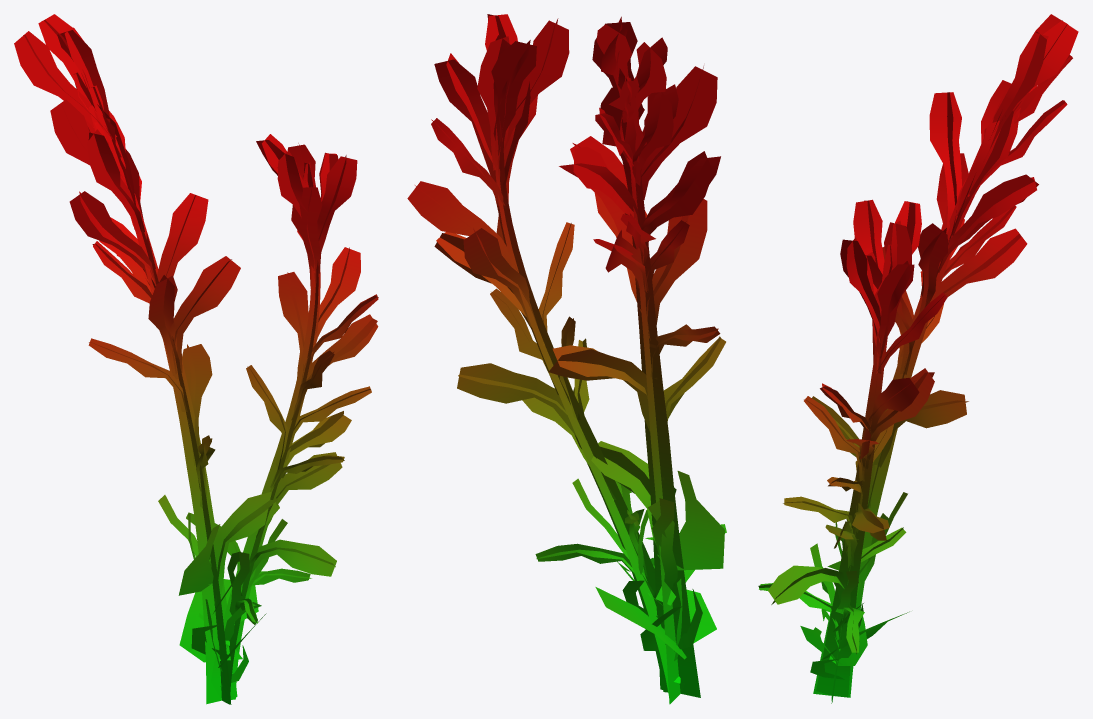
Rendered from Var6_LOD0.fbx.
The picture shows the model from 3 angles, left to right: view 1: azimuth 30°, elevation 25°; view 2: azimuth 150°, elevation 25°; view 3: azimuth 270°, elevation 25°; orthographic projection. The views are drawn at different scales.
Parts seen in each view (by area): view 1: _c8c1_Var6_LOD0; view 2: _c8c1_Var6_LOD0; view 3: _c8c1_Var6_LOD0.
Boxes of the visible parts, x1,y1,x2,y2 form: _c8c1_Var6_LOD0: (14, 14, 378, 704); _c8c1_Var6_LOD0: (407, 14, 726, 704); _c8c1_Var6_LOD0: (758, 14, 1078, 703).
Size of the model in its own units: 38.07 by 83.25 by 37.47.
